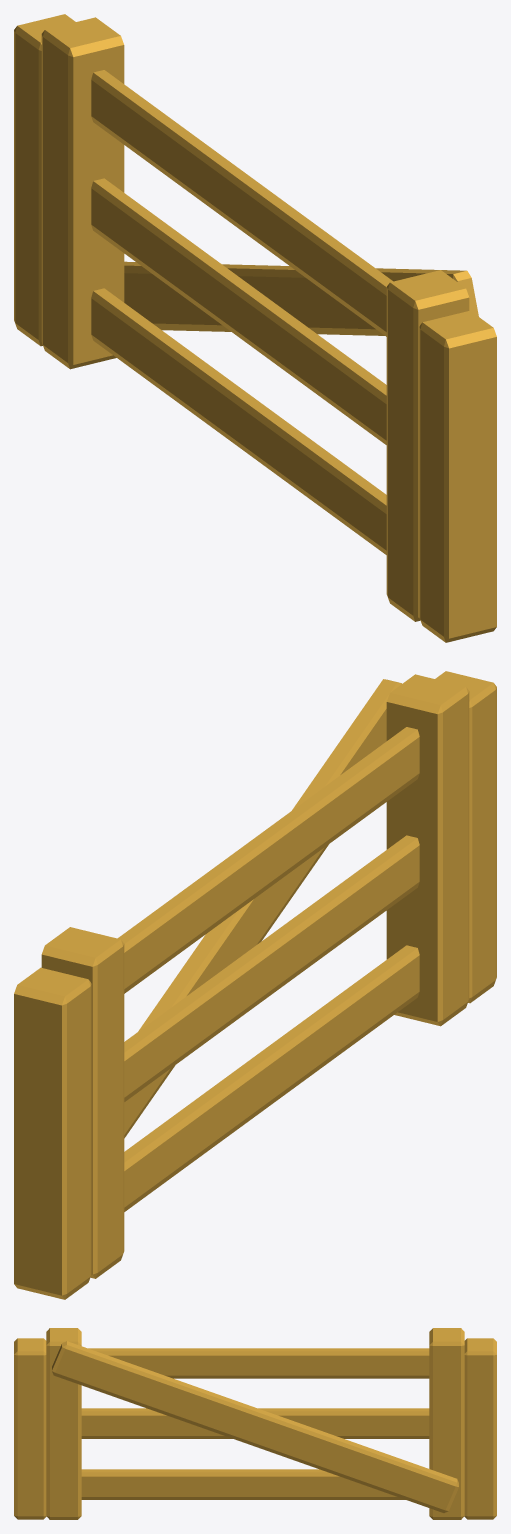
The model's file is Fence Gate.glb.
3 renders of one model, top to bottom at view 1: azimuth 30°, elevation 25°; view 2: azimuth 150°, elevation 25°; view 3: azimuth 270°, elevation 25°, orthographic. The views are drawn at different scales.
Parts seen in each view (by area): view 1: Door_Cube.008; view 2: Door_Cube.008; view 3: Door_Cube.008.
Boxes of the visible parts, bbox=[...] form: Door_Cube.008: bbox=[14, 14, 496, 642]; Door_Cube.008: bbox=[14, 671, 496, 1299]; Door_Cube.008: bbox=[14, 1328, 496, 1519].
Bounding box in the file's own units: 0.4281 × 1.85 × 4.51.
